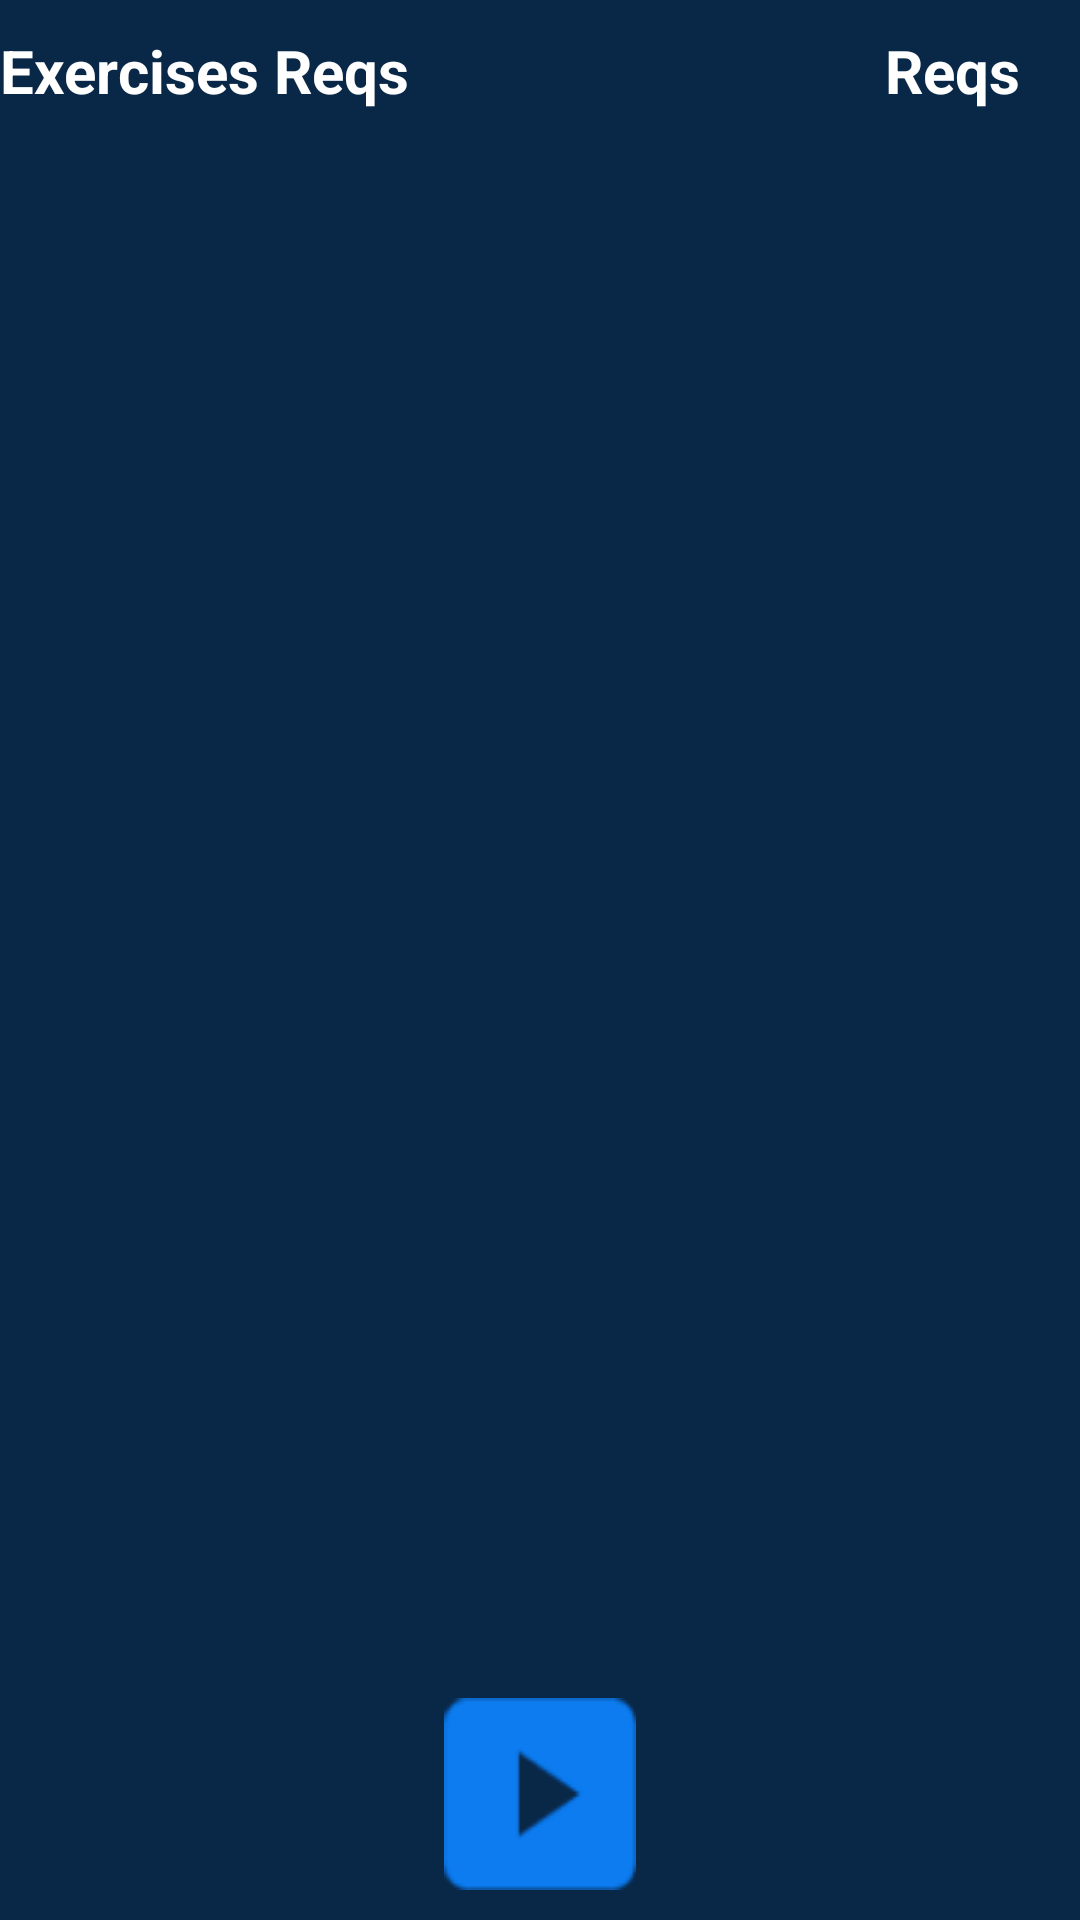

Icons on this 1080 × 1920 Android screen, each with its box as [x1,y1,x2,y2]:
start: [444,1698,636,1890]
